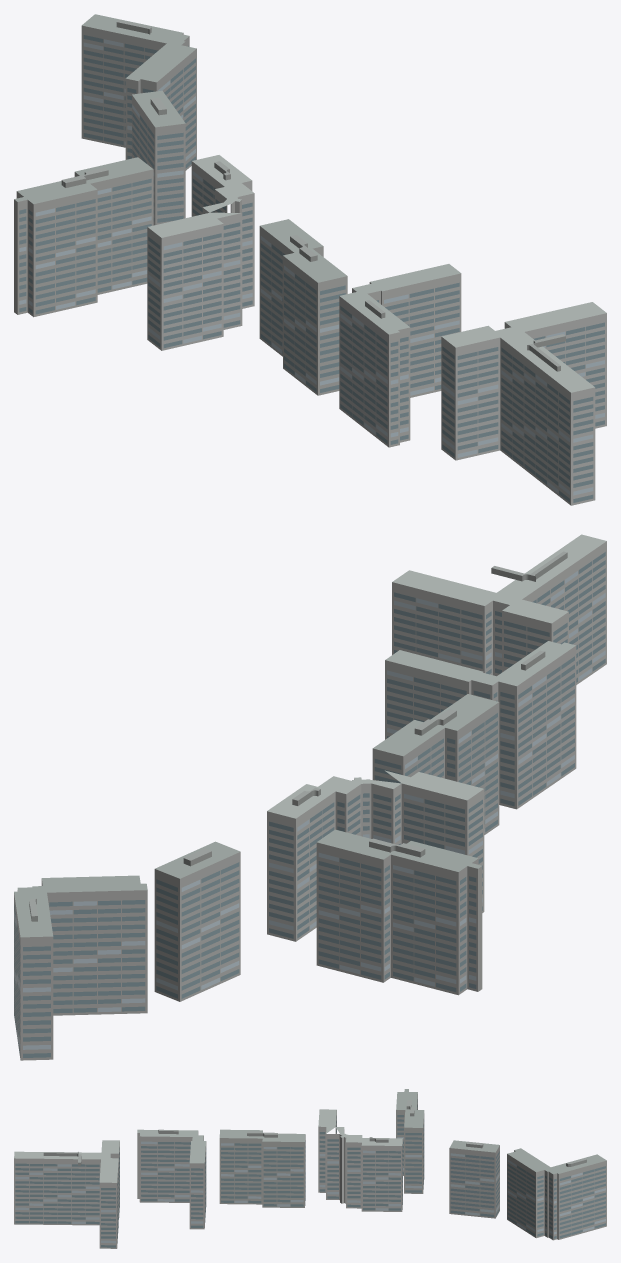
The model's file is apt-a13880406.glb.
3 views of the same model, one above another, from view 1: azimuth 30°, elevation 25°; view 2: azimuth 150°, elevation 25°; view 3: azimuth 270°, elevation 25° (orthographic). The views are drawn at different scales.
Parts seen in each view (by area): view 1: apt-a13880406; view 2: apt-a13880406; view 3: apt-a13880406.
Boxes of the visible parts, left/top/right/bottom form: apt-a13880406: left=14, top=14, right=606, bottom=505; apt-a13880406: left=14, top=534, right=606, bottom=1060; apt-a13880406: left=14, top=1089, right=606, bottom=1248.
Bounding box in the file's own units: 139 × 47.81 × 372.
